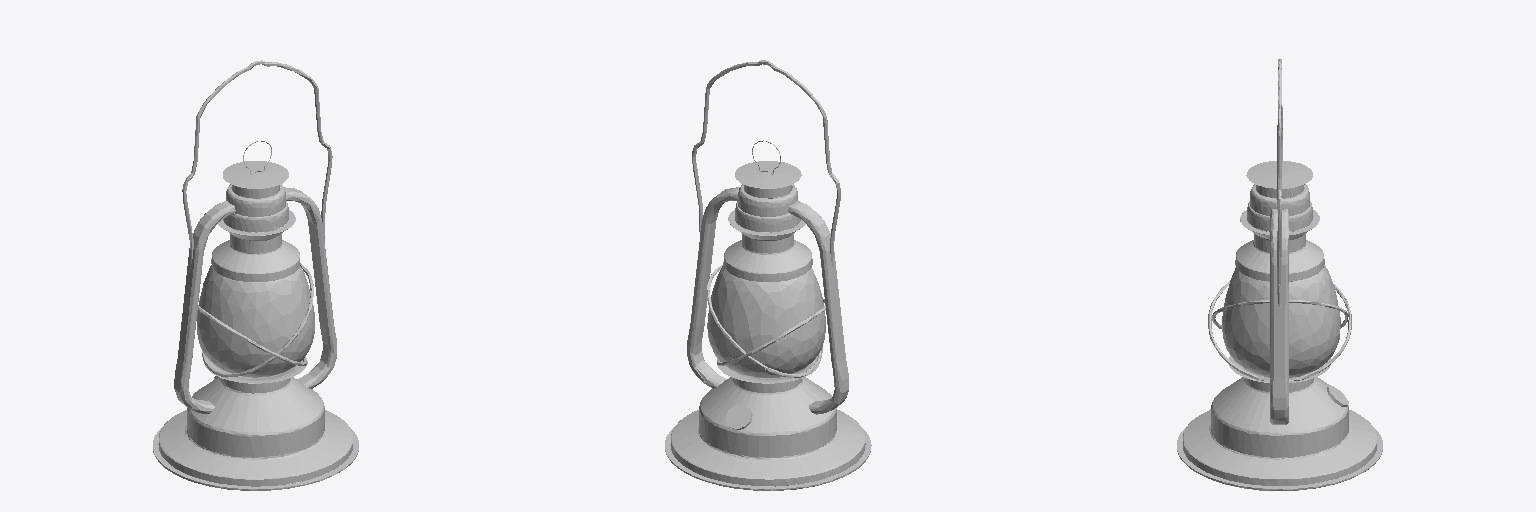
File: Lantern.obj
3 renders of one model, left to right at view 1: azimuth 30°, elevation 25°; view 2: azimuth 150°, elevation 25°; view 3: azimuth 270°, elevation 25°, orthographic.
Parts seen in each view (by area): view 1: Sphere; view 2: Sphere; view 3: Sphere.
Boxes of the visible parts, <box> form: Sphere: <box>153,60,358,490</box>; Sphere: <box>665,60,871,490</box>; Sphere: <box>1177,59,1382,490</box>.
Bounding box in the file's own units: 1.99 × 4.12 × 1.99.